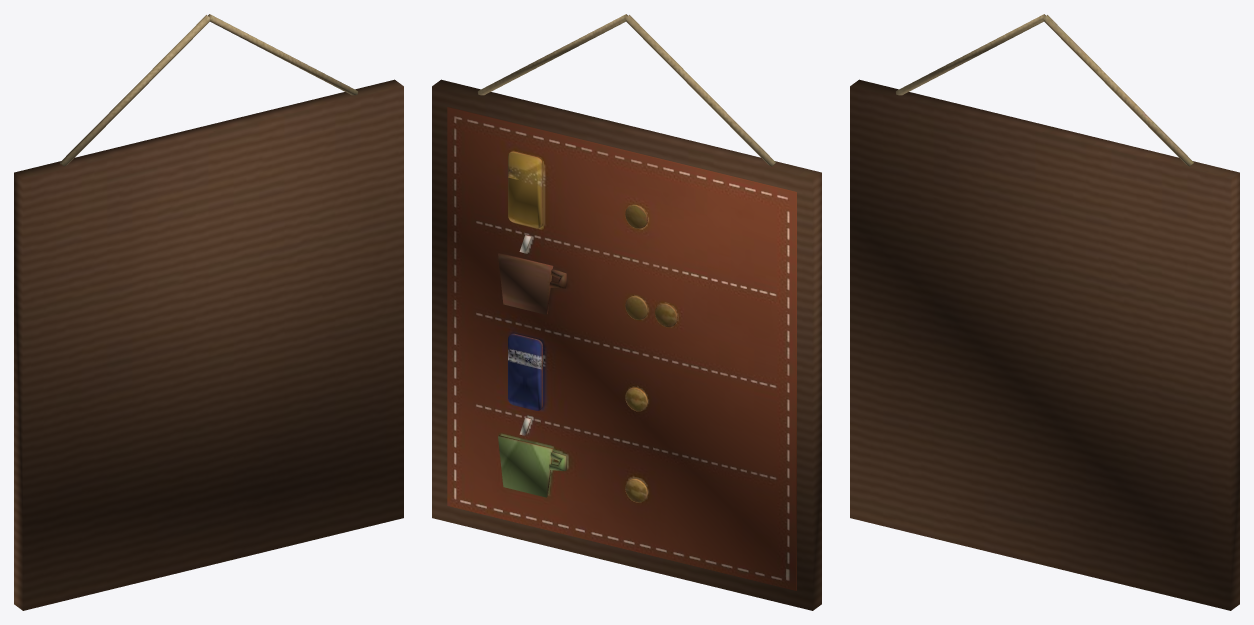
File: menu_drink.glb
3 renders of one model, left to right at view 1: azimuth 30°, elevation 25°; view 2: azimuth 150°, elevation 25°; view 3: azimuth 330°, elevation 25°, orthographic.
Parts seen in each view (by area): view 1: prop_menu_drink_wood, prop_menu_drink_felt; view 2: prop_menu_drink_felt, prop_menu_drink_wood; view 3: prop_menu_drink_wood, prop_menu_drink_felt.
Part boxes in pixels (x1=…): prop_menu_drink_wood: x1=14, y1=79, x2=403, y2=610; prop_menu_drink_felt: x1=60, y1=14, x2=357, y2=166; prop_menu_drink_felt: x1=447, y1=14, x2=796, y2=590; prop_menu_drink_wood: x1=432, y1=79, x2=821, y2=610; prop_menu_drink_wood: x1=850, y1=79, x2=1239, y2=610; prop_menu_drink_felt: x1=896, y1=14, x2=1193, y2=166.
Bounding box in the file's own units: 1.92 × 2.63 × 0.1.
Materials: 2 (2 with a texture image).
